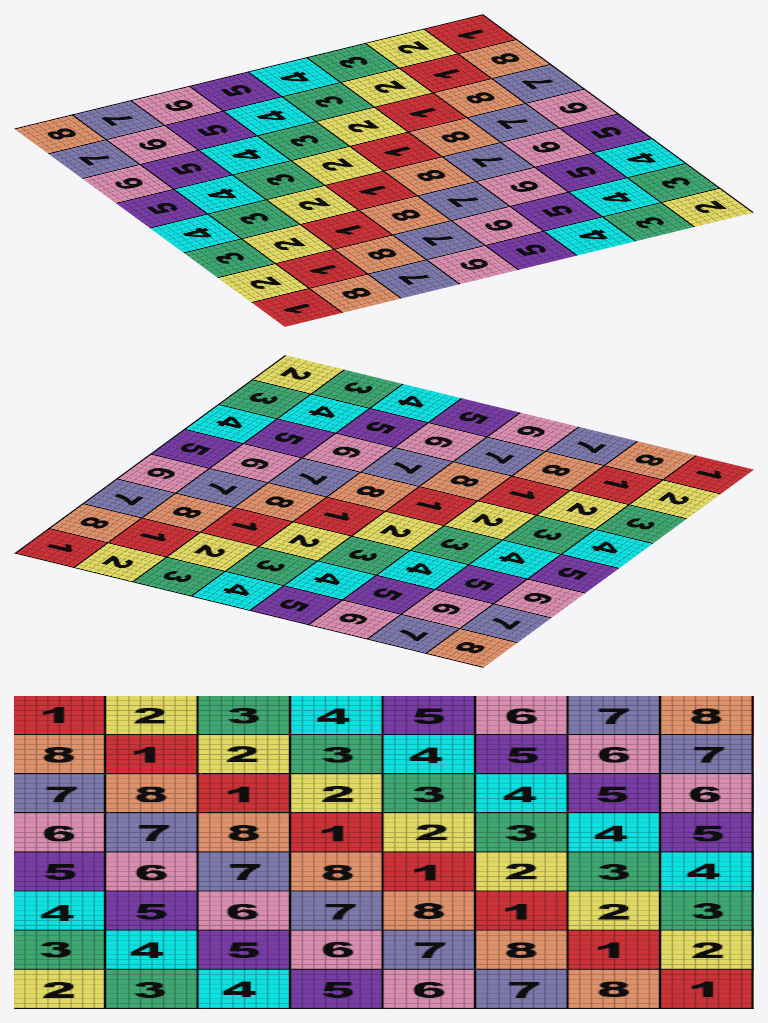
The model's file is watertess_ring5_corner.fbx.
3 views of the same model, one above another, from view 1: azimuth 30°, elevation 25°; view 2: azimuth 150°, elevation 25°; view 3: azimuth 270°, elevation 25° (orthographic). The views are drawn at different scales.
Parts seen in each view (by area): view 1: watertess_ring5_corner; view 2: watertess_ring5_corner; view 3: watertess_ring5_corner.
Boxes of the visible parts, x1=… form: watertess_ring5_corner: x1=14, y1=14, x2=753, y2=326; watertess_ring5_corner: x1=14, y1=355, x2=753, y2=667; watertess_ring5_corner: x1=14, y1=696, x2=753, y2=1008.
Size of the model in its own units: 128 by 2.09e-05 by 128.
